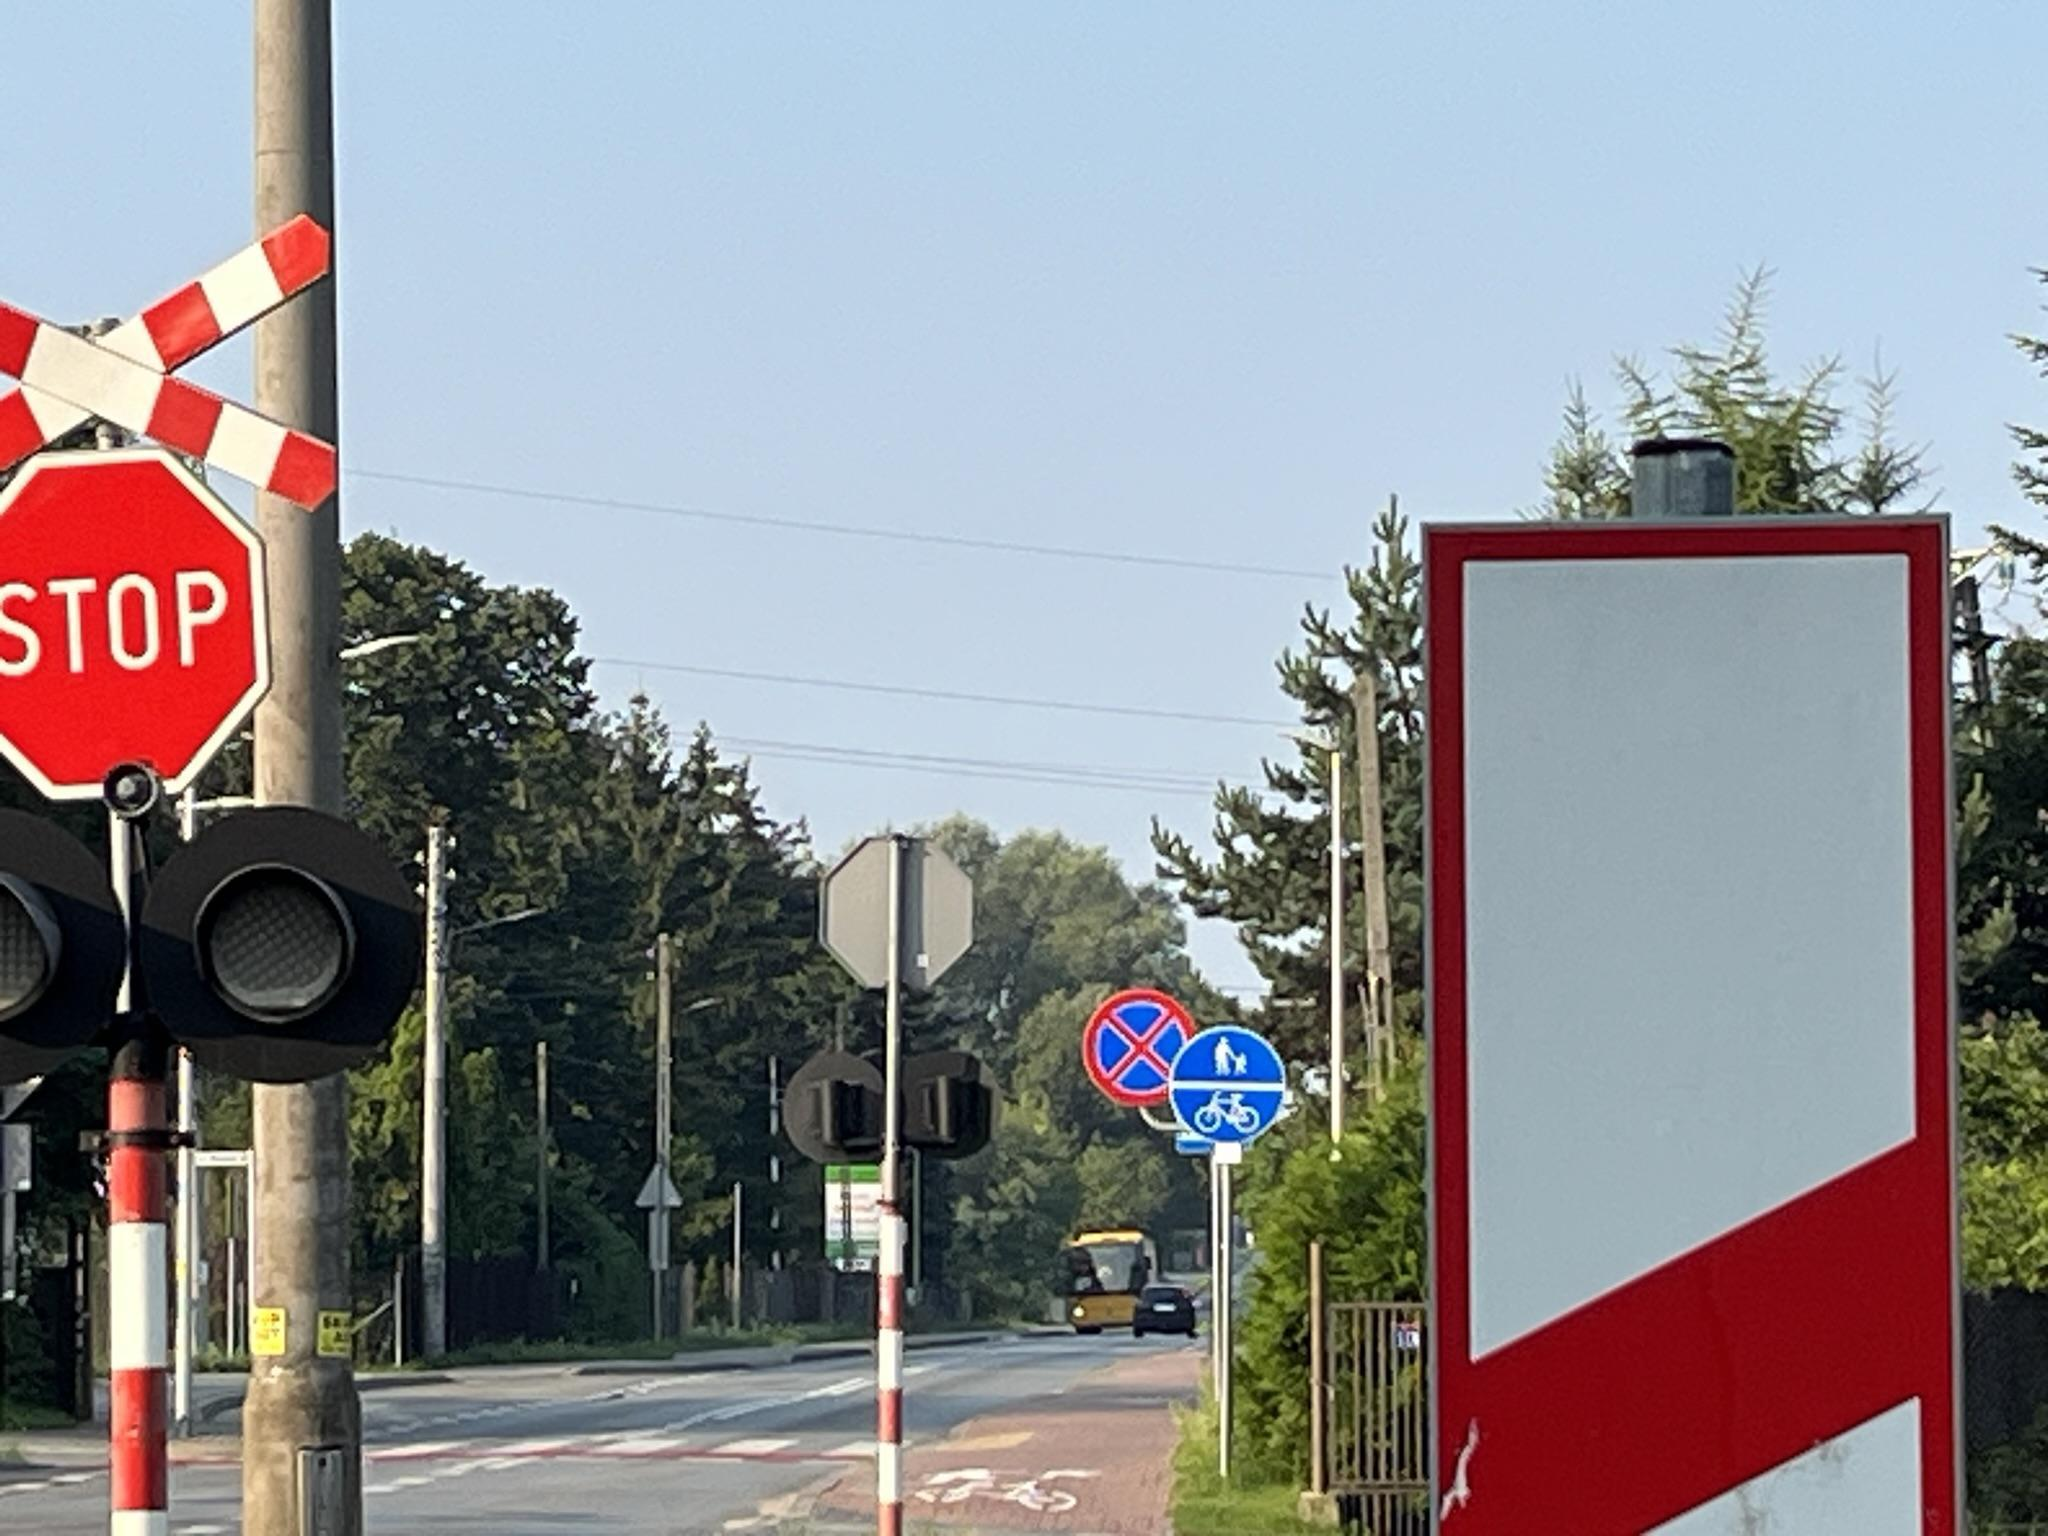mandatory: (1169, 1025, 1287, 1144)
prohibitory: (0, 442, 273, 802), (1082, 986, 1198, 1107)
